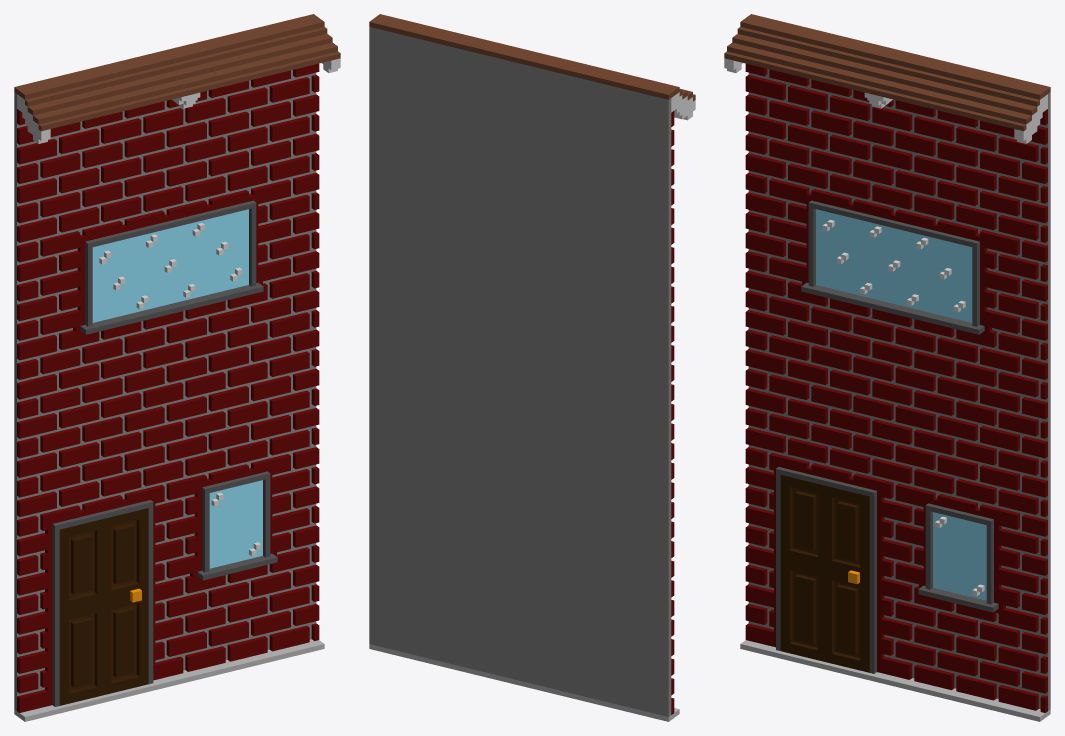
File: house_wall.gltf
The picture shows the model from 3 angles, left to right: view 1: azimuth 30°, elevation 25°; view 2: azimuth 150°, elevation 25°; view 3: azimuth 330°, elevation 25°; orthographic projection.
Visible parts, largest first — view 1: Layer.1; view 2: Layer.1; view 3: Layer.1.
Boxes of the visible parts, x1,y1,x2,y2 form: Layer.1: (14, 14, 340, 721); Layer.1: (369, 14, 695, 721); Layer.1: (724, 14, 1050, 721).
Bounding box in the file's own units: 64 × 128 × 10.
Materials: 1 (1 with a texture image).
